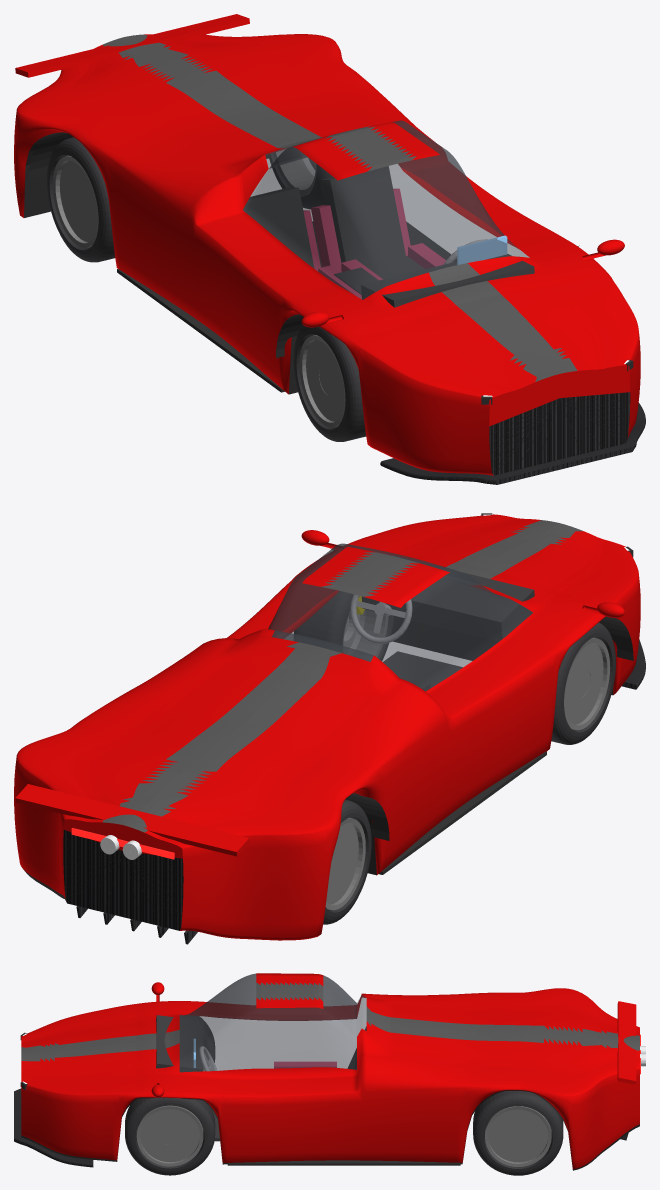
Rendered from ferrari-sf90.glb.
3 renders of one model, top to bottom at view 1: azimuth 30°, elevation 25°; view 2: azimuth 150°, elevation 25°; view 3: azimuth 270°, elevation 25°, orthographic. The views are drawn at different scales.
Visible parts, largest first — view 1: Body_PrimaryPaint, Glass_Windows, Body_SecondaryPaint, Carbon_Exterior, Interior_Seats, WheelWells, Interior_SeatBolsters, Tire_FR, Rim_FR, Tire_RR, Rim_RR, Body_Spoiler (+5 smaller); view 2: Body_PrimaryPaint, Glass_Windows, Body_SecondaryPaint, Carbon_Exterior, Interior_Dashboard, Body_Spoiler, WheelWells, Rim_FR, Underbody, Rim_RR, Tire_FR, Tire_FL (+4 smaller); view 3: Body_PrimaryPaint, Glass_Windows, Body_SecondaryPaint, Rim_FL, Rim_RL, Tire_RL, Tire_FL, Interior_Dashboard, Body_Spoiler, WheelWells, Carbon_Exterior, Underbody (+2 smaller).
Boxes of the visible parts, x1,y1,x2,y2 form: Body_PrimaryPaint: [14, 34, 640, 475]; Glass_Windows: [243, 120, 529, 299]; Body_SecondaryPaint: [103, 34, 577, 381]; Carbon_Exterior: [380, 392, 645, 484]; Interior_Seats: [243, 166, 424, 279]; WheelWells: [29, 132, 579, 392]; Interior_SeatBolsters: [303, 188, 445, 299]; Tire_FR: [293, 325, 366, 441]; Rim_FR: [299, 335, 345, 427]; Tire_RR: [47, 137, 115, 262]; Rim_RR: [52, 155, 98, 247]; Body_Spoiler: [15, 14, 249, 77]; Body_PrimaryPaint: [14, 514, 640, 940]; Glass_Windows: [268, 543, 532, 691]; Body_SecondaryPaint: [103, 520, 583, 832]; Carbon_Exterior: [63, 639, 645, 944]; Interior_Dashboard: [361, 556, 534, 641]; Body_Spoiler: [15, 784, 249, 856]; WheelWells: [330, 548, 633, 874]; Rim_FR: [564, 637, 610, 730]; Underbody: [23, 616, 613, 901]; Rim_RR: [325, 817, 365, 910]; Tire_FR: [551, 622, 615, 744]; Tire_FL: [294, 591, 393, 661]; Body_PrimaryPaint: [21, 973, 639, 1169]; Glass_Windows: [179, 973, 366, 1072]; Body_SecondaryPaint: [21, 982, 639, 1061]; Rim_FL: [136, 1105, 203, 1166]; Rim_RL: [485, 1106, 551, 1166]; Tire_RL: [473, 1091, 563, 1175]; Tire_FL: [125, 1097, 215, 1175]; Interior_Dashboard: [156, 1015, 203, 1072]; Body_Spoiler: [617, 1001, 636, 1084]; WheelWells: [227, 1160, 460, 1165]; Carbon_Exterior: [14, 1088, 628, 1167]; Underbody: [21, 1090, 639, 1170].
Size of the model in its own units: 2.01 by 1.18 by 4.81.
Materials: 17 (2 with a texture image).
